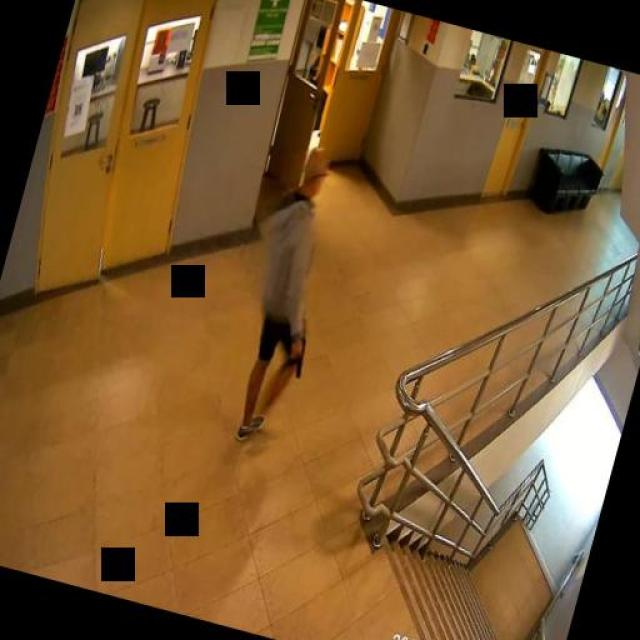gun: (285, 332, 309, 376)
